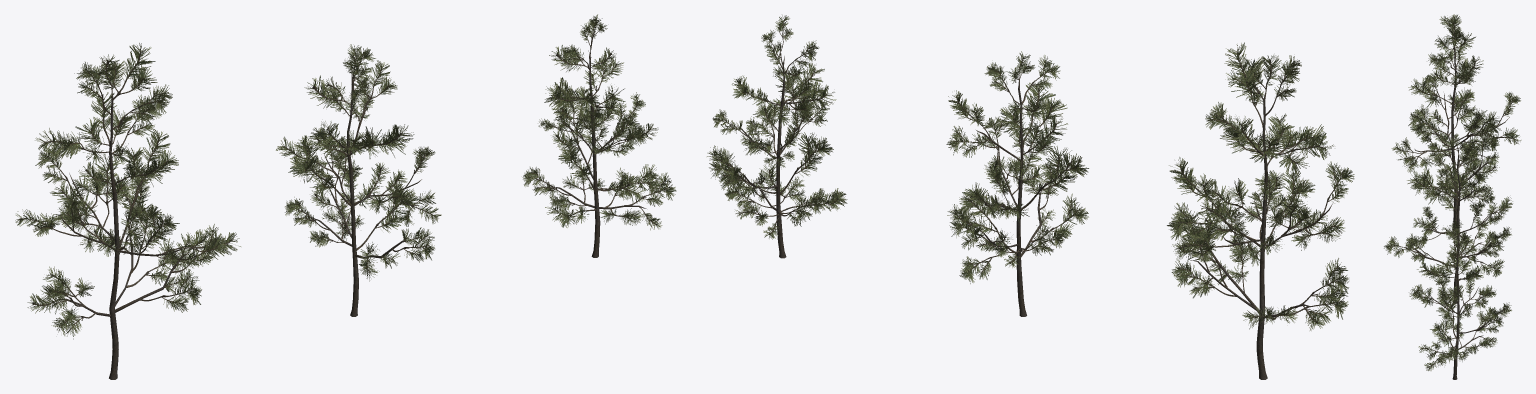
Rendered from pine_sapling_small_1k.glb.
3 renders of one model, left to right at view 1: azimuth 30°, elevation 25°; view 2: azimuth 150°, elevation 25°; view 3: azimuth 270°, elevation 25°, orthographic. The views are drawn at different scales.
Parts seen in each view (by area): view 1: pine_sapling_small_b; view 2: pine_sapling_small_b; view 3: pine_sapling_small_b.
Part boxes in pixels (x1=…): pine_sapling_small_b: x1=15, y1=14, x2=676, y2=379; pine_sapling_small_b: x1=707, y1=15, x2=1354, y2=379; pine_sapling_small_b: x1=1384, y1=14, x2=1521, y2=379.
Size of the model in its own units: 2.64 by 1.3 by 0.7703.
Materials: 2 (2 with a texture image).
